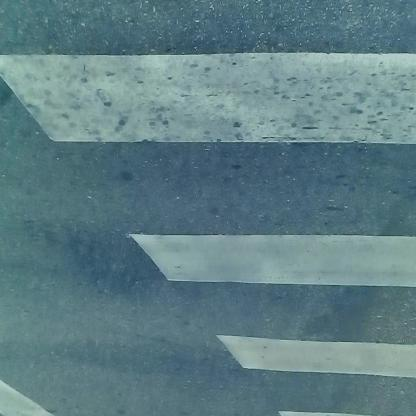crosswalk: (88, 8, 416, 410)
